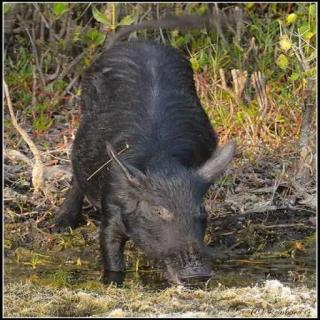Pig: (67, 28, 234, 307)
